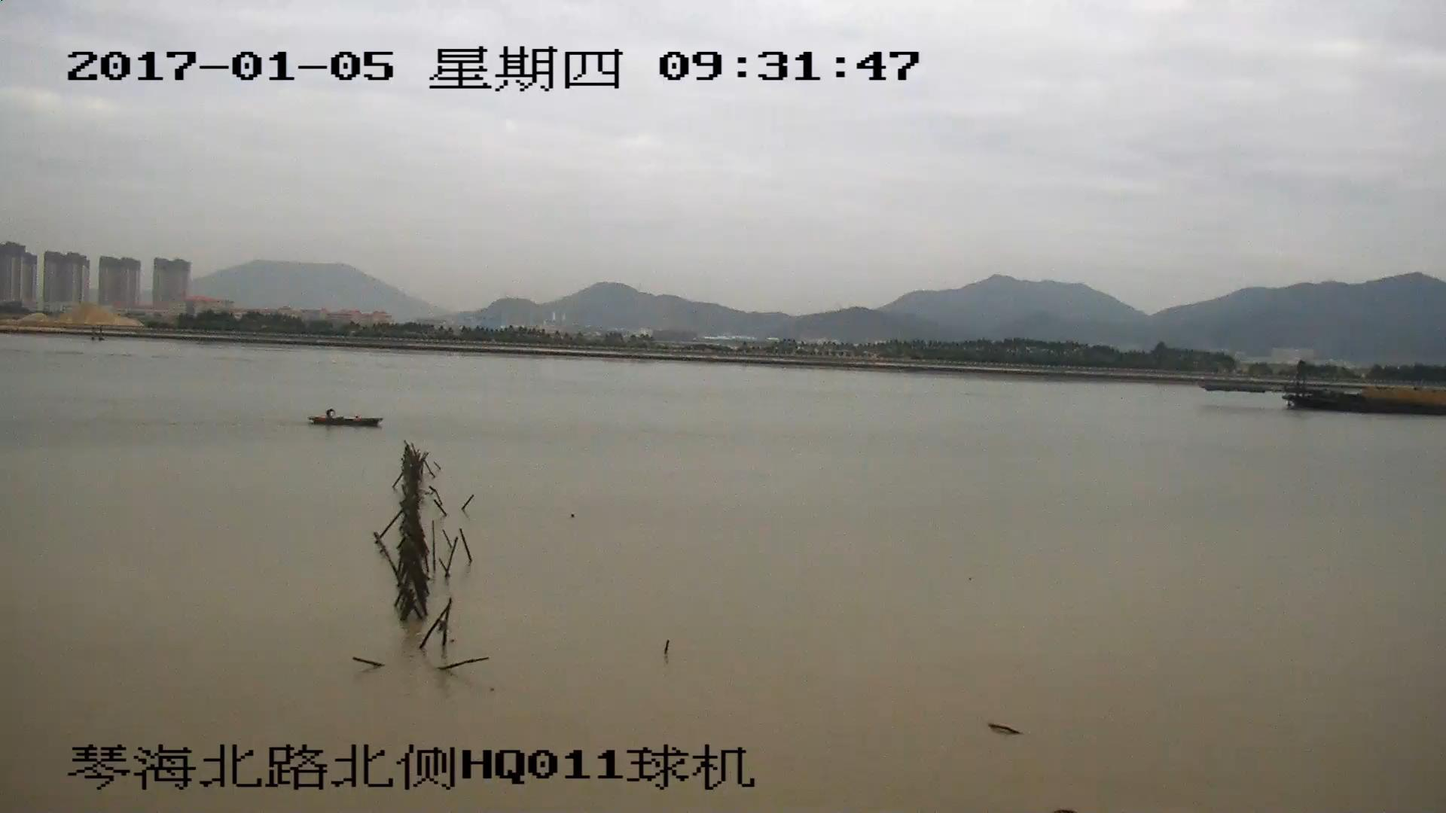fishing boat: (308, 404, 382, 425)
ore carrier: (1204, 370, 1445, 413)
